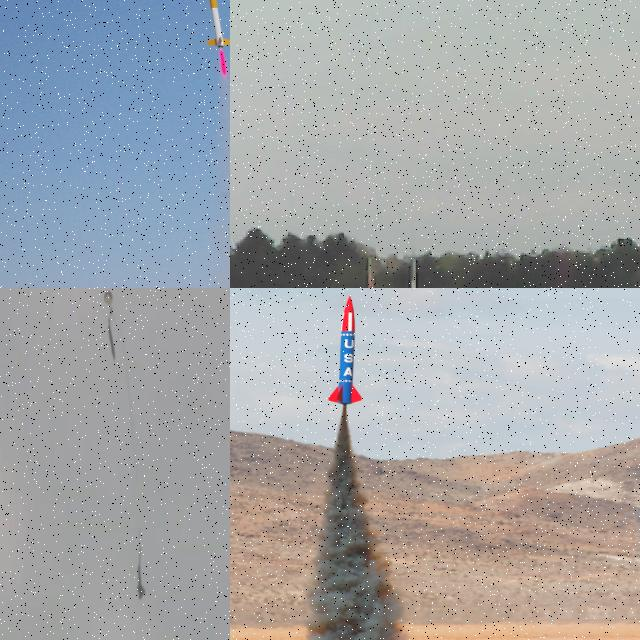Rocket: (327, 295, 363, 406), (205, 0, 230, 48), (136, 562, 146, 599)
